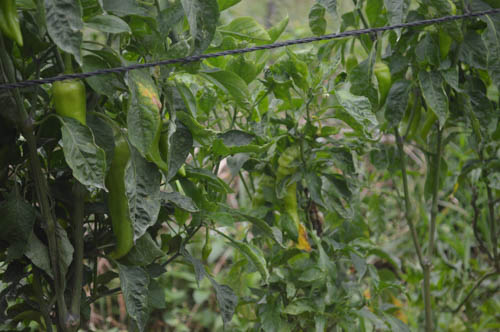ChiliPepper: (104, 134, 138, 260), (52, 79, 87, 133), (371, 69, 392, 105)
